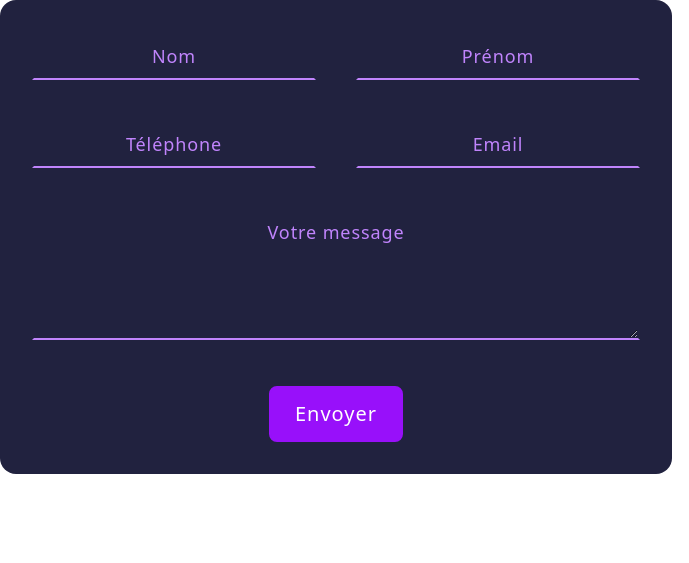
Test: ContactForm › affiche une confirmation et réinitialise le formulaire après envoi réussi
In the field with placeholder "Nom": {"x": 174, "y": 56} [32,32,316,80], type "Dupont"
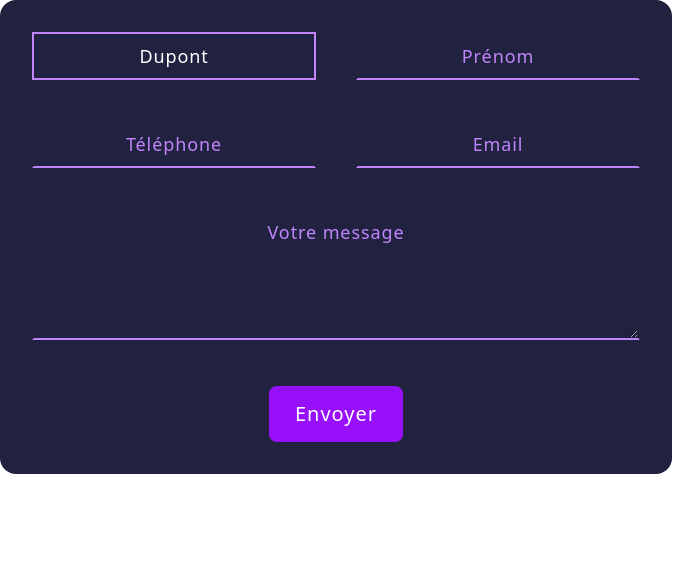
In the field with placeholder "Prénom": {"x": 498, "y": 56} [356,32,640,80], type "Jean"
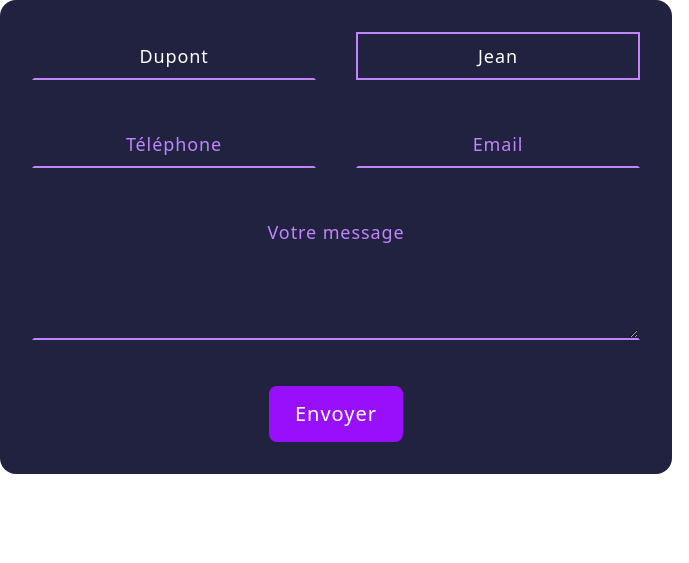
In the field with placeholder "Téléphone": {"x": 174, "y": 144} [32,120,316,168], type "0612345678"
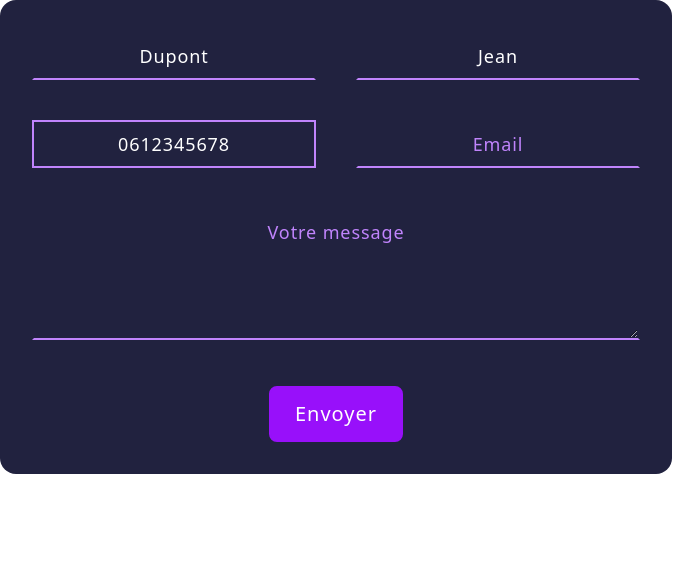
In the field with placeholder "Email": {"x": 498, "y": 144} [356,120,640,168], type "jean.dupont@example.fr"
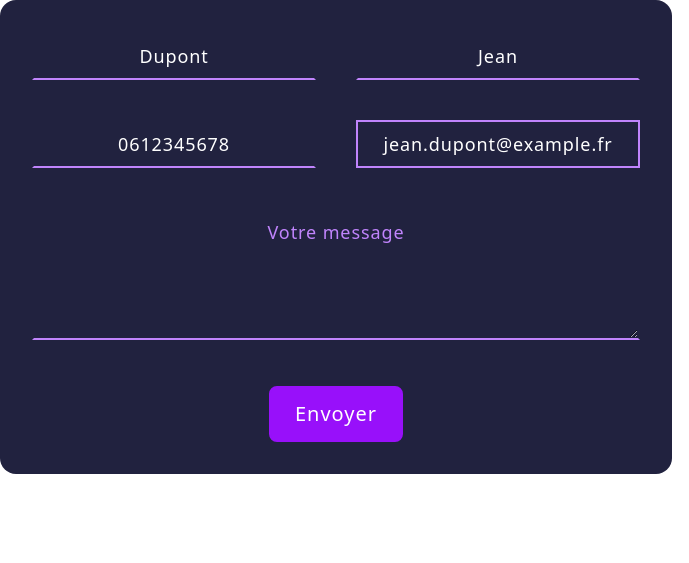
In the text box with placeholder "Votre message": {"x": 336, "y": 274} [32,208,640,340], type "Bonjour, j'aime beaucoup votre blog."
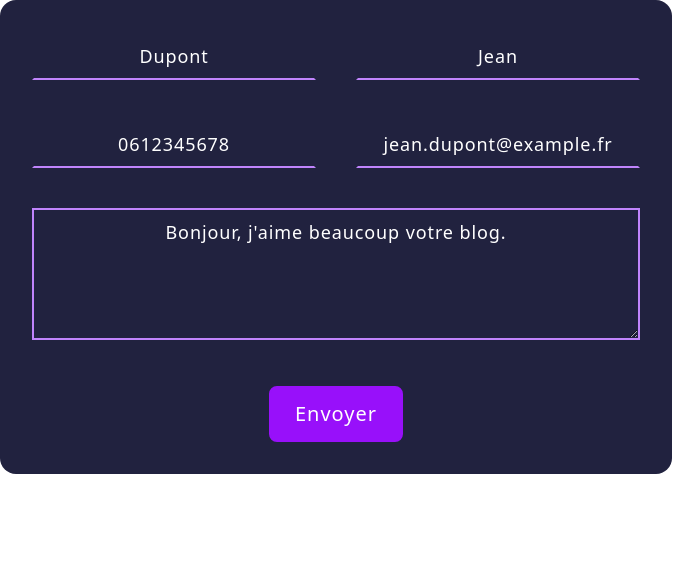
Click the button "Envoyer": {"x": 336, "y": 414} [269,386,403,442]
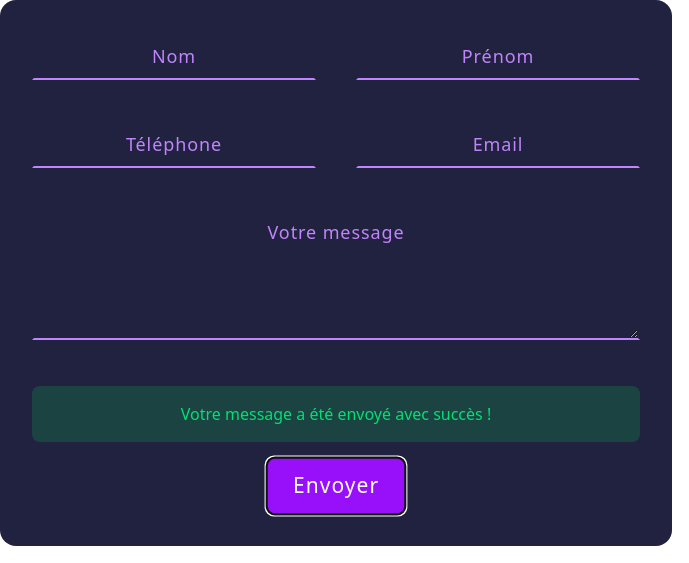
Expected: the text "Votre message a été envoyé avec succès !" is shown, [32,386,640,442]
Expected: the field with placeholder "Nom" is empty, [32,32,316,80]
Expected: the text box with placeholder "Votre message" is empty, [32,208,640,340]
